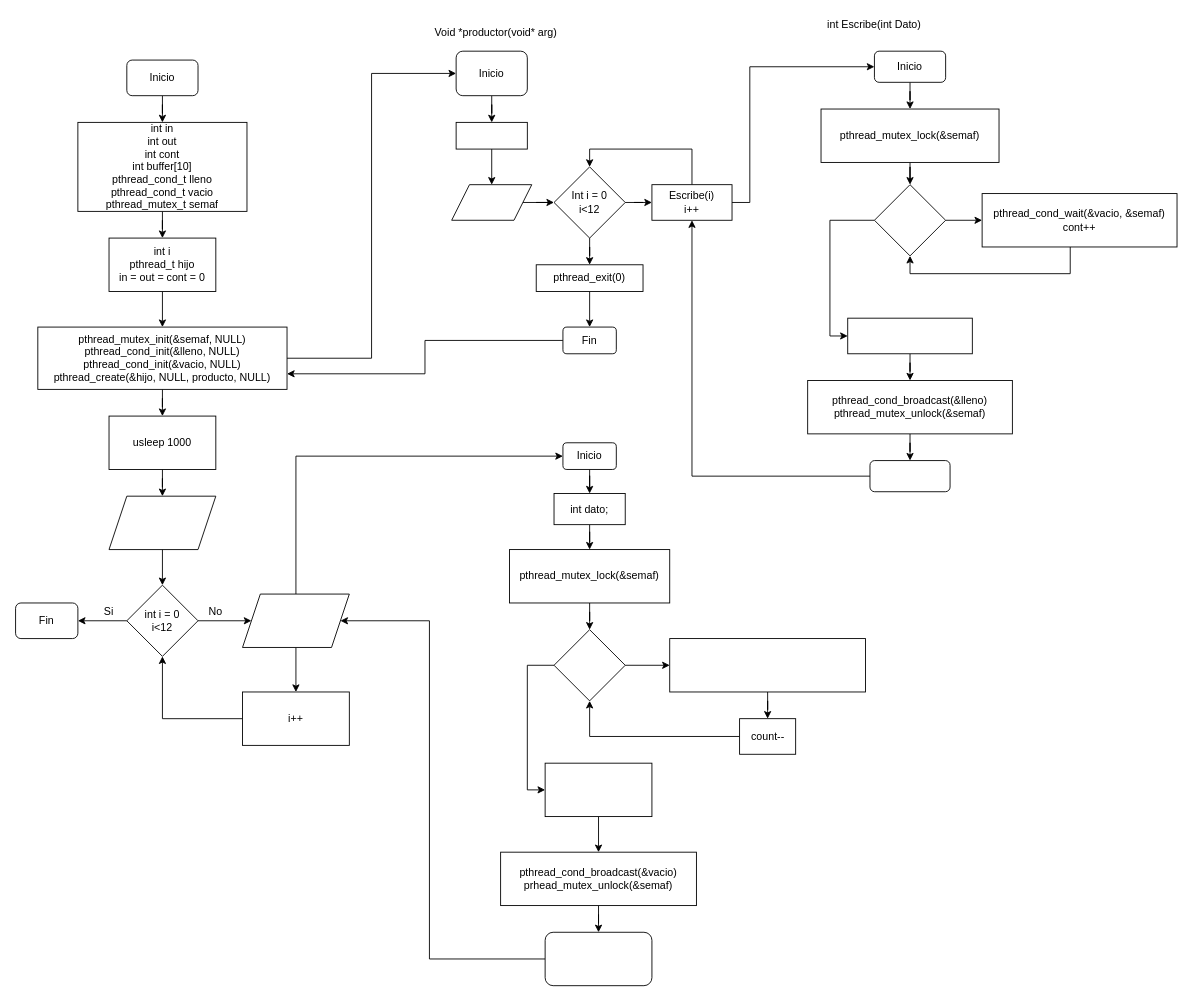
Image size: 1193x1001. Some labels were removed from this diagram. Each missing label, with the centre of its shape:
"%d\n", Lee(): (295,620)
"Hijo\n": (491,202)
"Padre": (162,522)
buffer[in] = DATO in = (in+1)%10: (909,335)
cont == 0: (589,665)
cont == 10: (910,220)
dato = buffer[out] out = (out+1)%10: (598,789)
Int i: (491,135)
pthread_cond_wait(&lleno, &semaf): (767,665)
Return 0: (909,476)
Return dato: (598,958)
